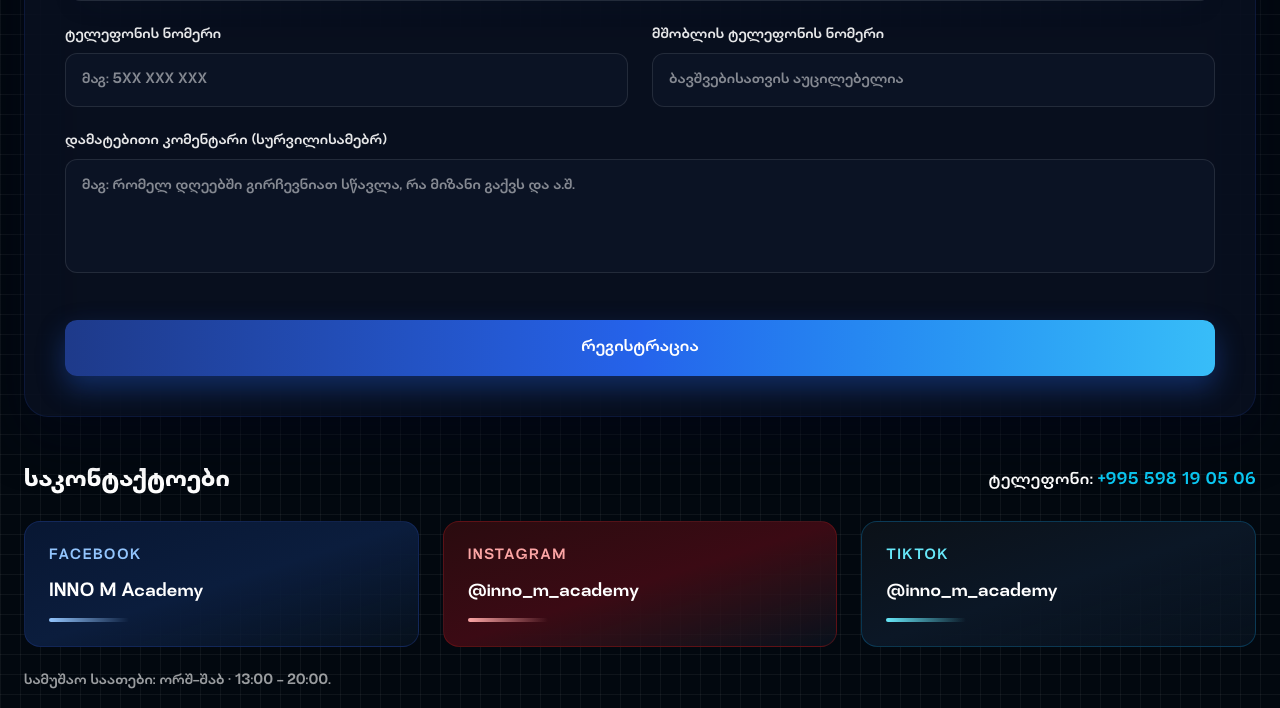
Test case: Registration › shows validation errors on empty submit
The width and height of the screenshot is (1280, 708).
(page scrolled)
What coordinates should you click on to do the following:
click the button "რეგისტრაცია"
I would click on:
 (640, 348)
Its box is left=65, top=320, right=1215, bottom=376.
(page scrolled)
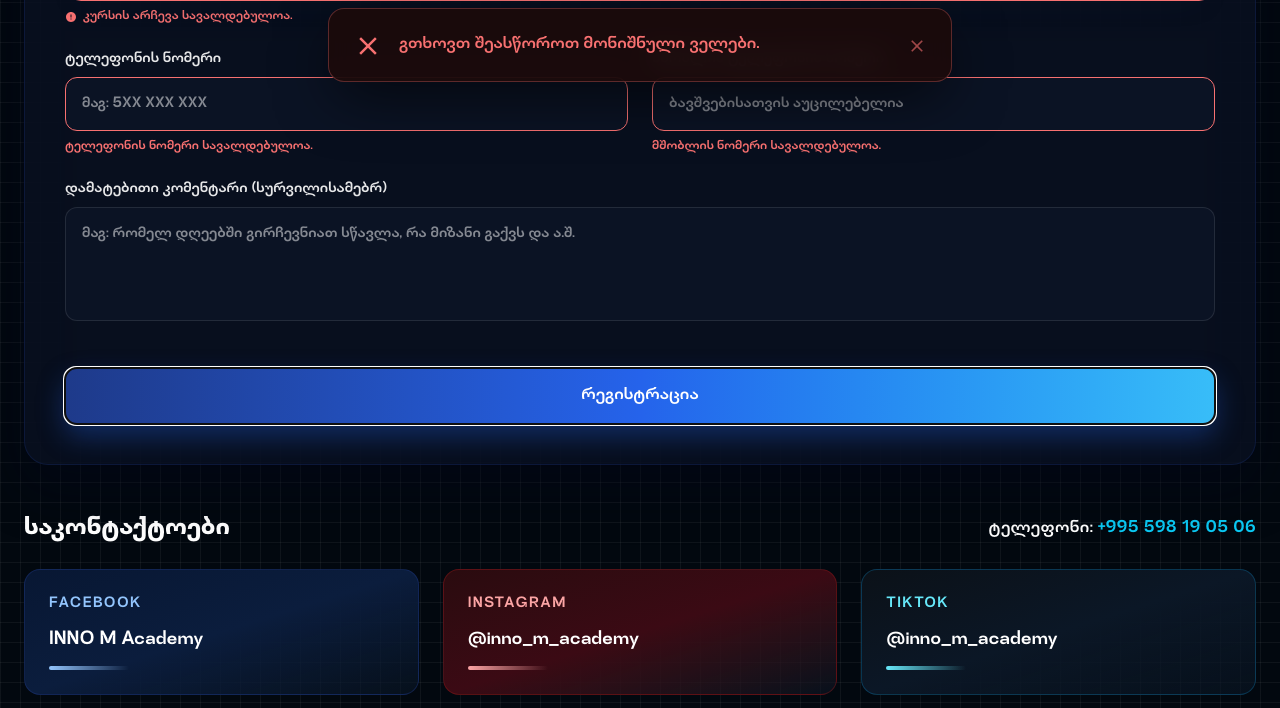
expect the text "კურსის არჩევა სავალდებულოა." is shown: met, box left=65, top=10, right=292, bottom=23
